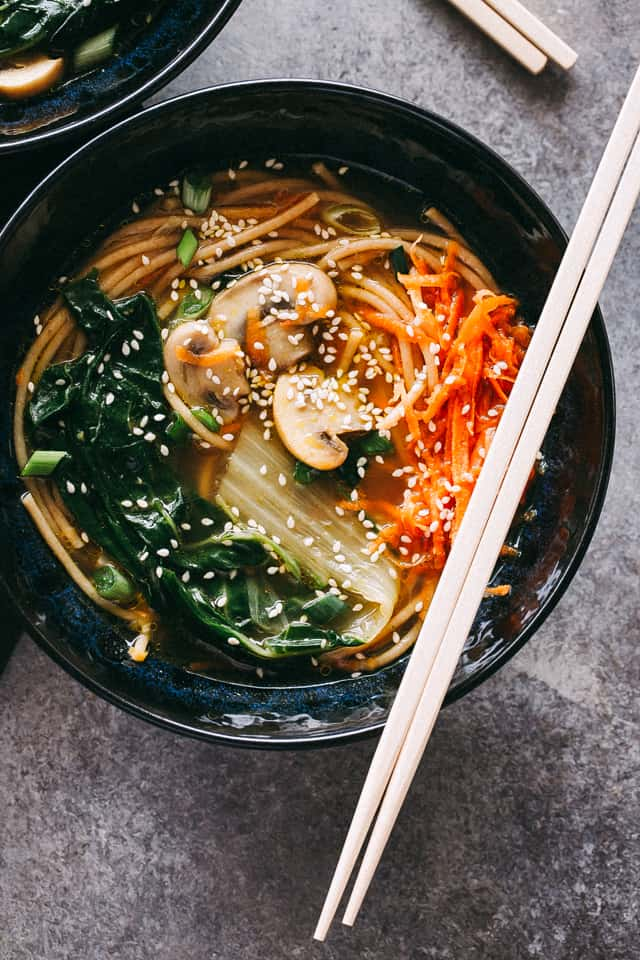Soba: (27, 177, 543, 713)
